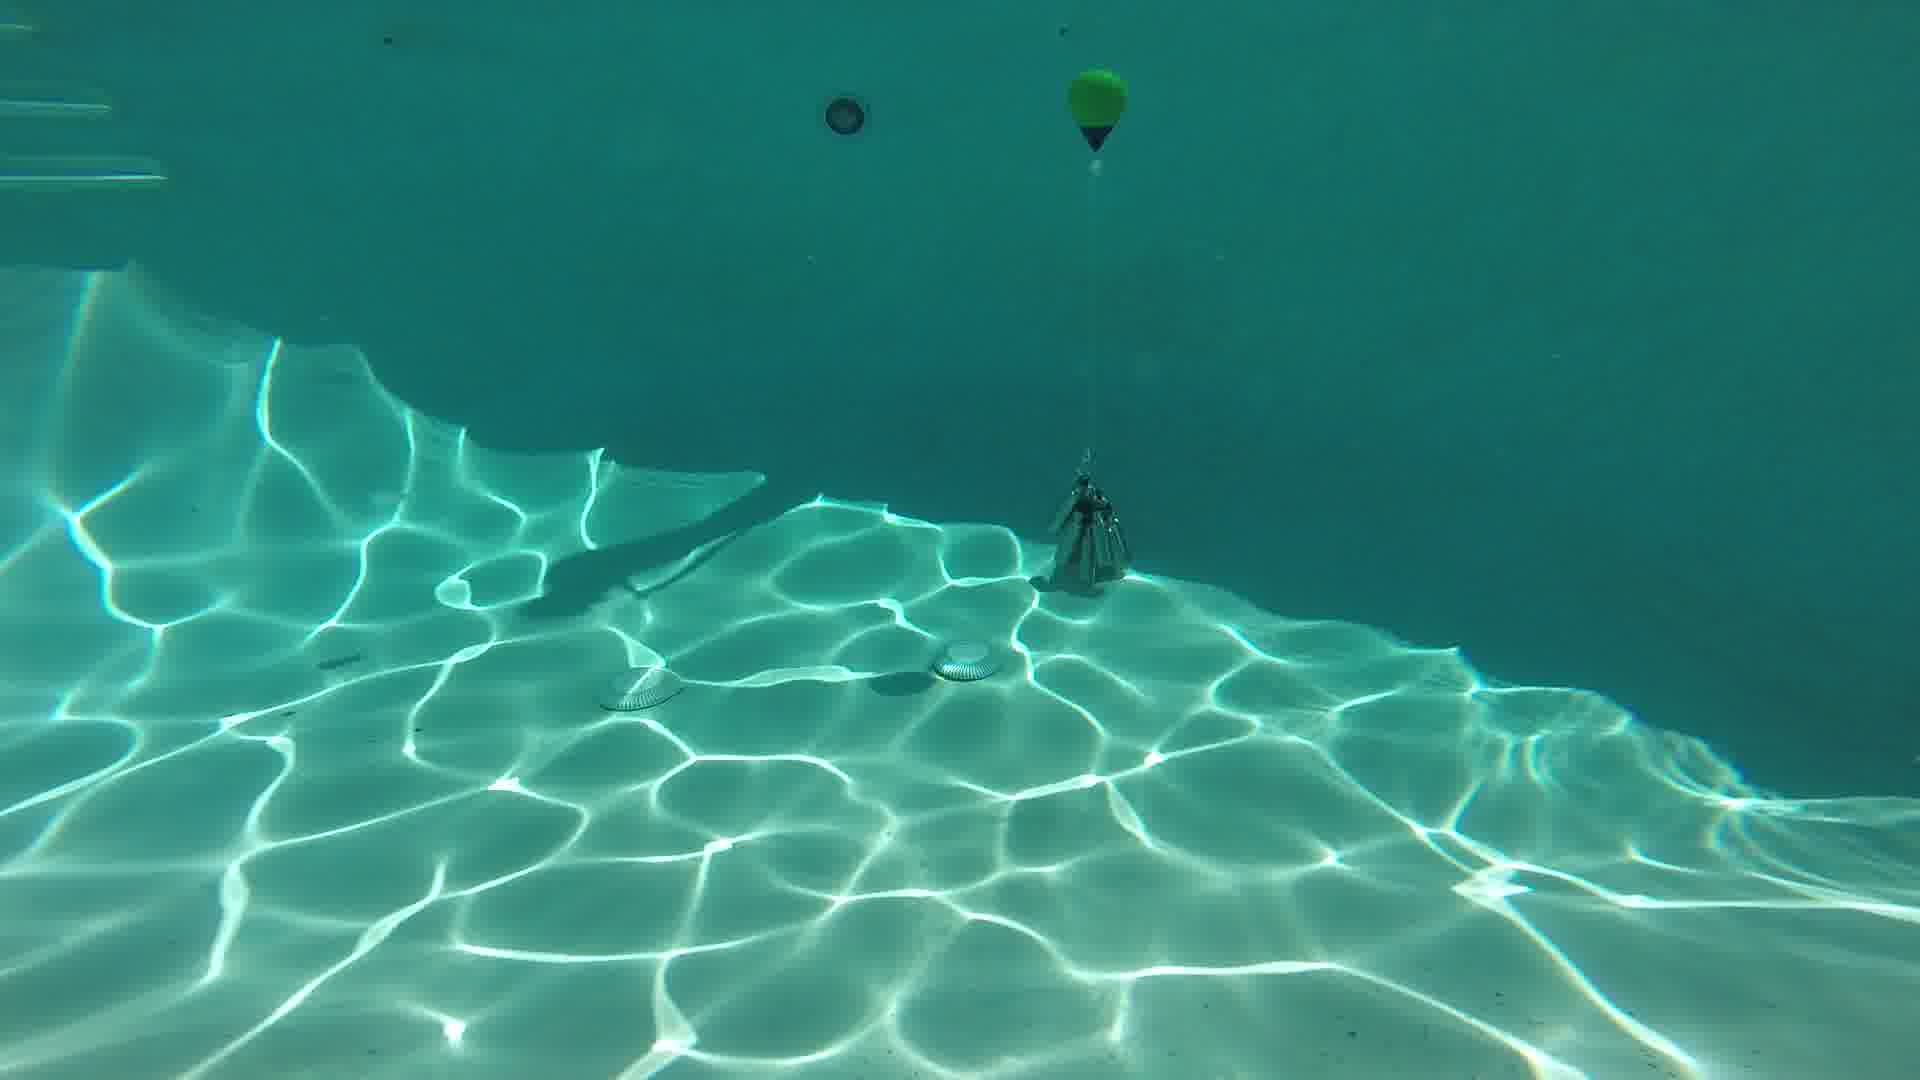yellow_buoy: (1067, 67, 1125, 153)
